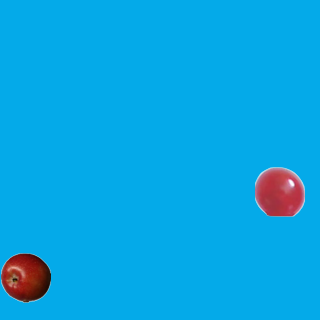Apple Braeburn: (0, 252, 50, 302)
Redcurrant: (254, 166, 304, 216)
